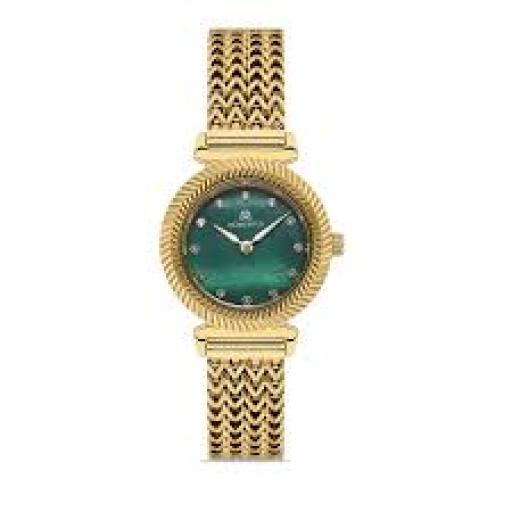KolSaati: (160, 24, 358, 474)
